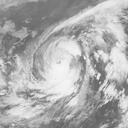cyclone: (19, 36, 82, 97)
